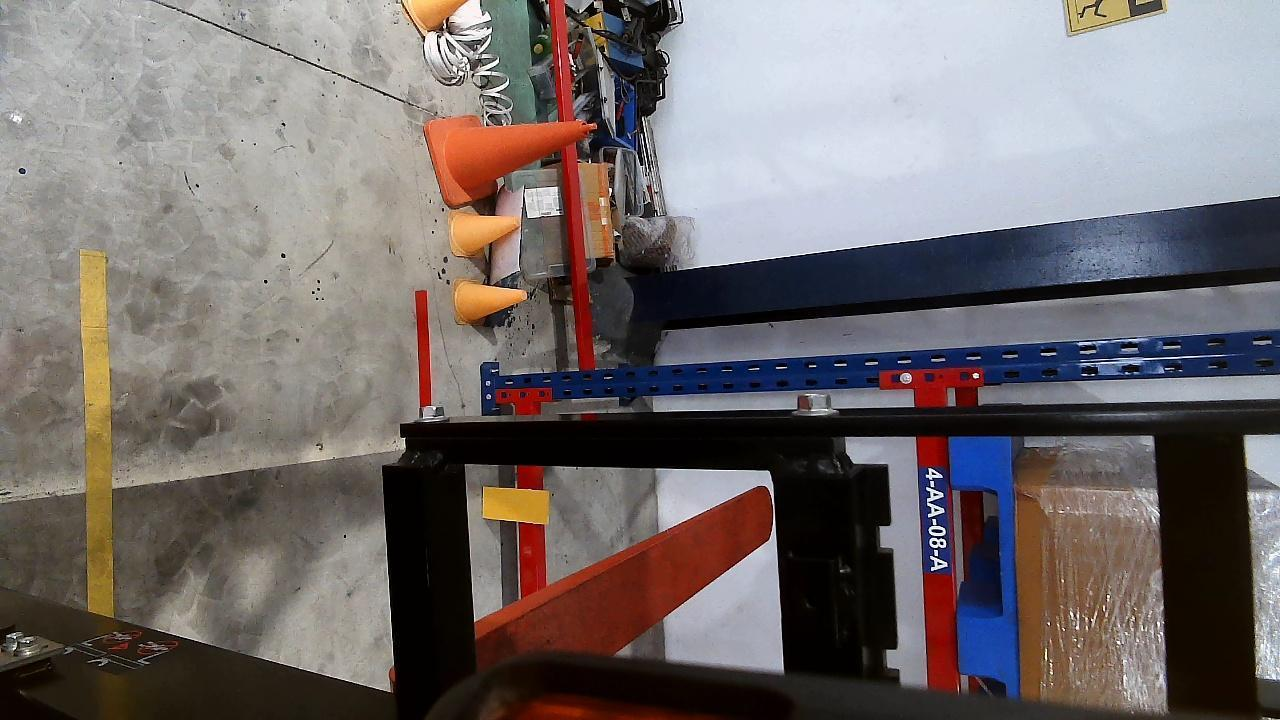red_line: (413, 289, 435, 421)
yellow_line: (79, 248, 113, 615)
